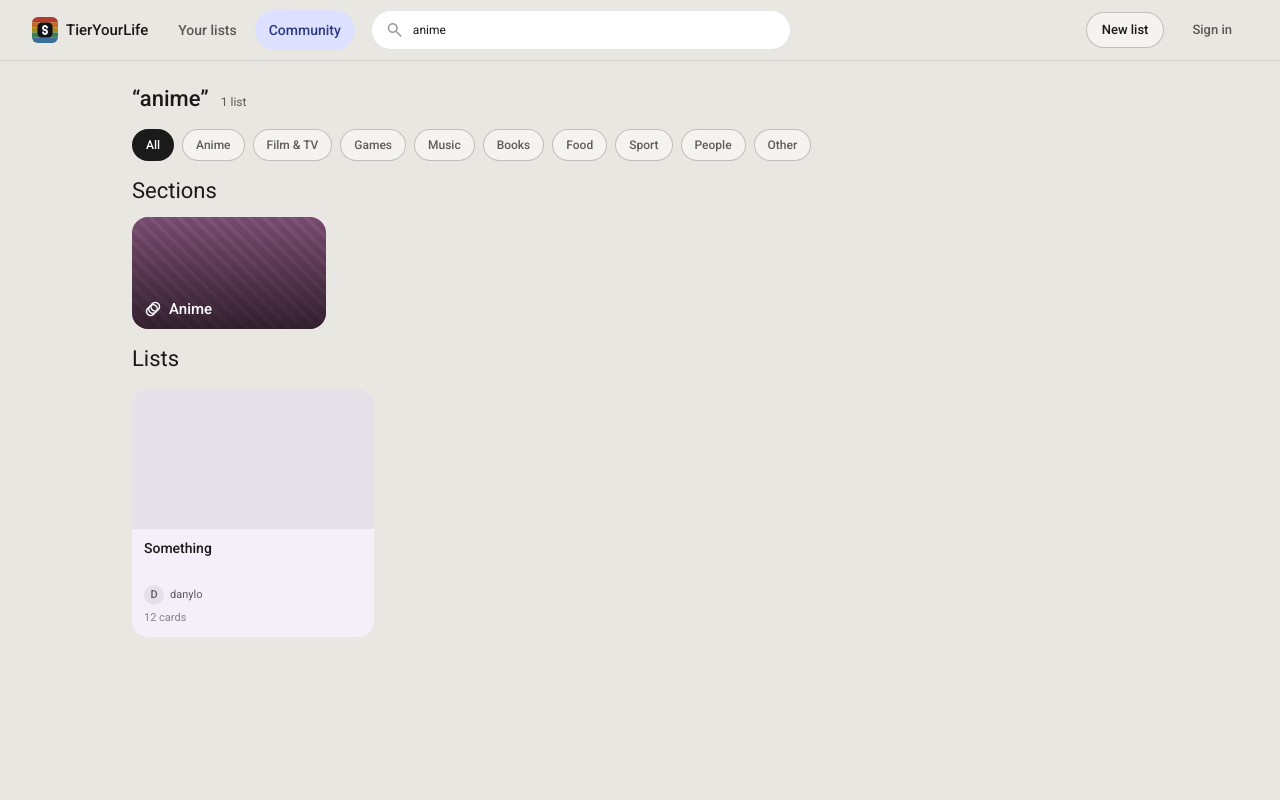
Test: the search box on the front page › takes the words the bar's field brings, instead of writing its own back
Expected: the heading "“anime”" is shown, [132, 85, 209, 112]
Replace the text in the search field with "zzz". click: coordinates (595, 30)
box: [413, 21, 777, 39]
Then press Enter
Wait 350 ms
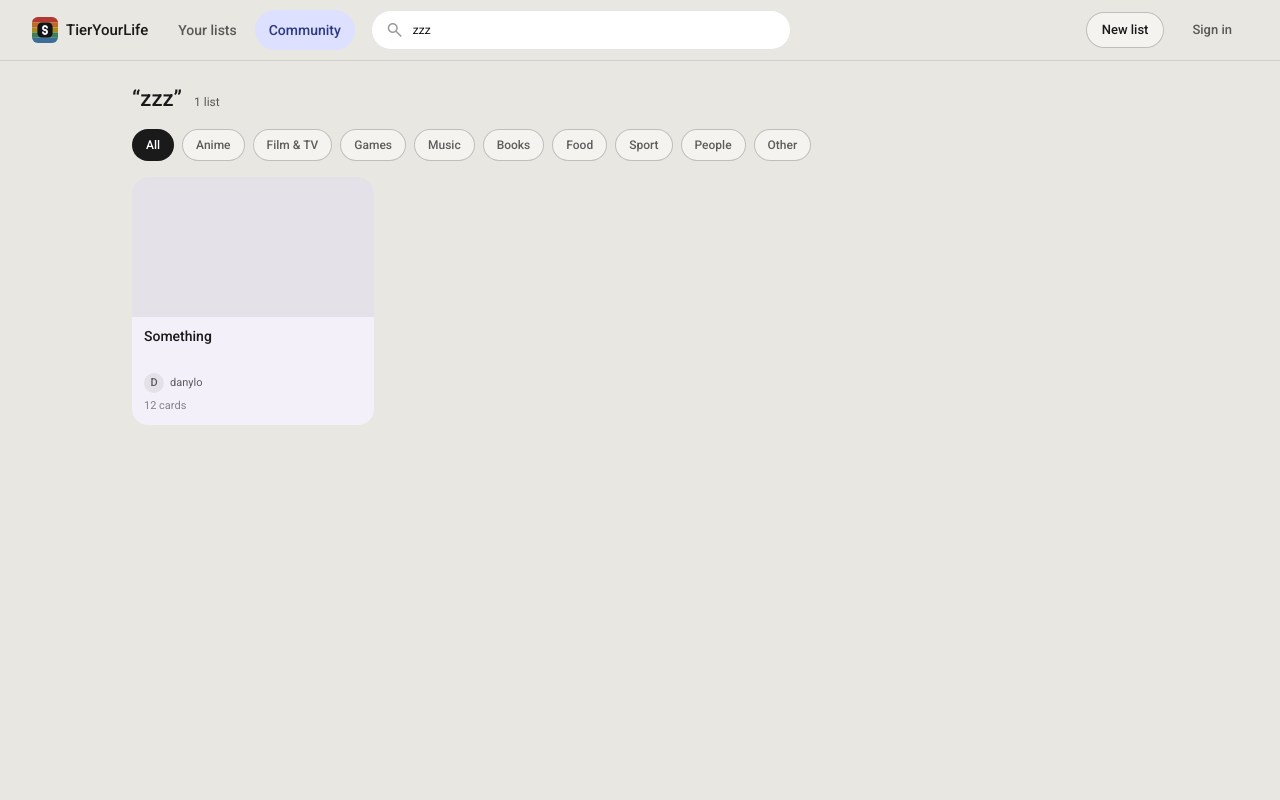
Expected: the element that starts with "“zzz”" holds "zzz", [132, 86, 811, 424]
Expected: the heading reads "“zzz”", [132, 86, 182, 111]
